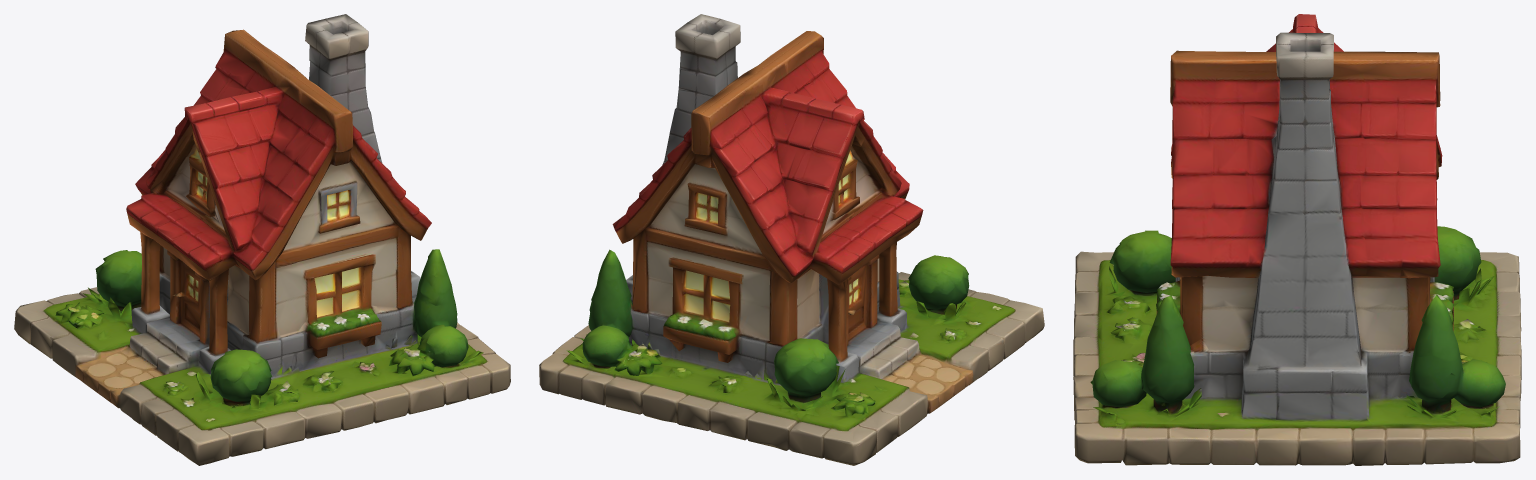
The model's file is house_small.glb.
3 renders of one model, left to right at view 1: azimuth 30°, elevation 25°; view 2: azimuth 150°, elevation 25°; view 3: azimuth 270°, elevation 25°, orthographic. The views are drawn at different scales.
Visible parts, largest first — view 1: tripo_node_f38b706b-13b0-4a5d-83e7-1e350262d41c; view 2: tripo_node_f38b706b-13b0-4a5d-83e7-1e350262d41c; view 3: tripo_node_f38b706b-13b0-4a5d-83e7-1e350262d41c.
Part boxes in pixels (<box>): tripo_node_f38b706b-13b0-4a5d-83e7-1e350262d41c: <box>14,14,510,465</box>; tripo_node_f38b706b-13b0-4a5d-83e7-1e350262d41c: <box>539,14,1044,465</box>; tripo_node_f38b706b-13b0-4a5d-83e7-1e350262d41c: <box>1073,14,1521,465</box>.
Size of the model in its own units: 1 by 0.9126 by 0.995.
Materials: 1 (1 with a texture image).
